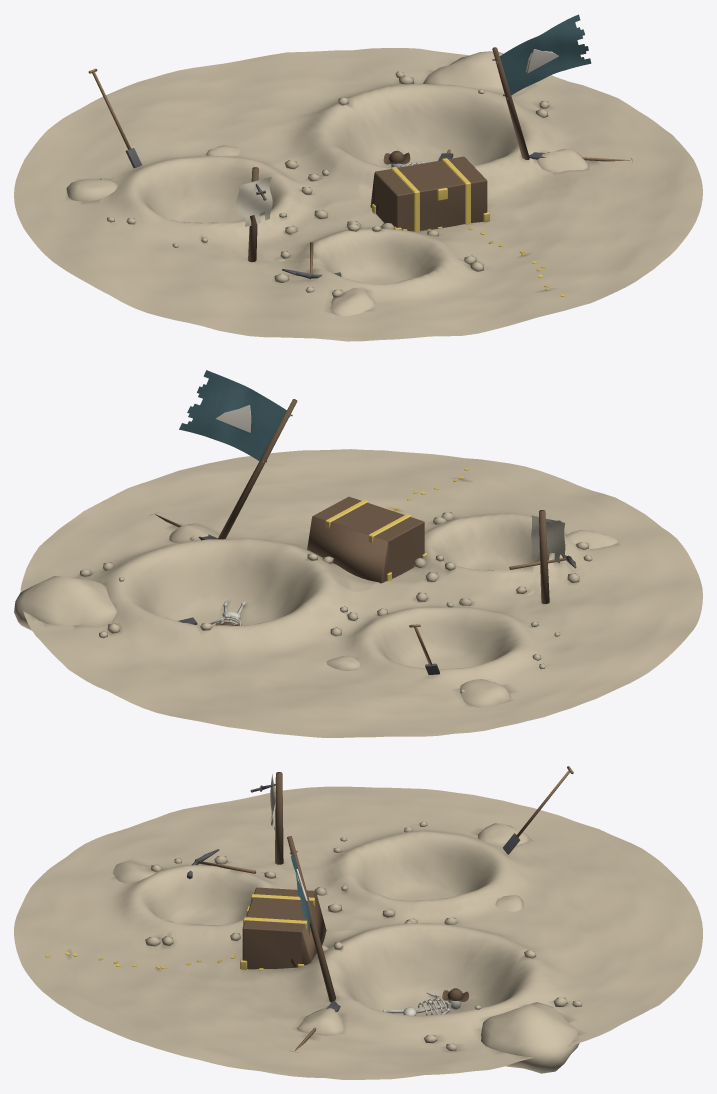
Rendered from dig_site.2faae147.glb.
3 renders of one model, top to bottom at view 1: azimuth 30°, elevation 25°; view 2: azimuth 150°, elevation 25°; view 3: azimuth 270°, elevation 25°, orthographic.
Parts seen in each view (by area): view 1: dig_site; view 2: dig_site; view 3: dig_site.
Part boxes in pixels (left/top/right/bottom): dig_site: left=14, top=14, right=702, bottom=341; dig_site: left=14, top=370, right=702, bottom=737; dig_site: left=14, top=766, right=702, bottom=1079.
Bounding box in the file's own units: 10 × 3.12 × 10.
